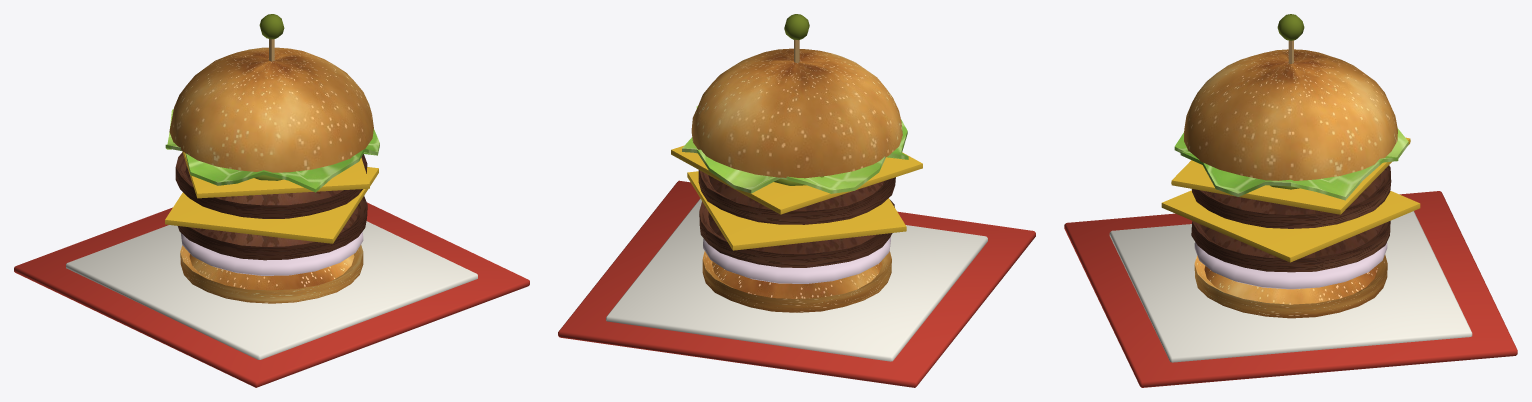
The model's file is meal_double_cheeseburger.glb.
3 renders of one model, left to right at view 1: azimuth 30°, elevation 25°; view 2: azimuth 150°, elevation 25°; view 3: azimuth 270°, elevation 25°, orthographic. The views are drawn at different scales.
Parts seen in each view (by area): view 1: meal_double_cheeseburger; view 2: meal_double_cheeseburger; view 3: meal_double_cheeseburger.
Part boxes in pixels (x1,y1,x2,y2): meal_double_cheeseburger: (14,14,529,387); meal_double_cheeseburger: (558,14,1035,387); meal_double_cheeseburger: (1064,14,1517,387).
Size of the model in its own units: 0.2353 by 0.159 by 0.2353.
Materials: 10 (3 with a texture image).
